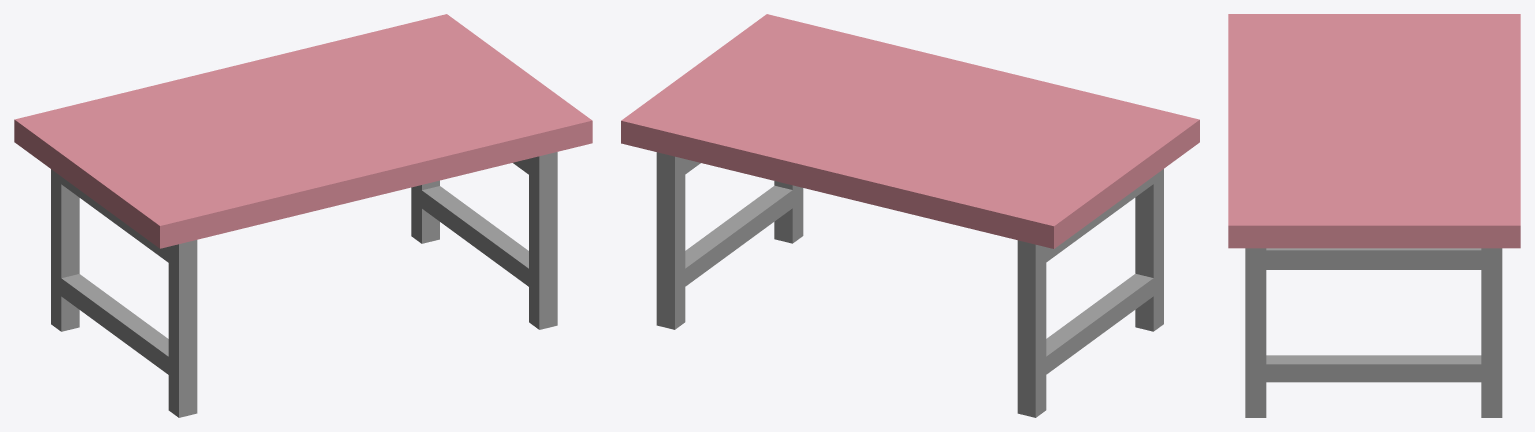
File: SM_Crafting.fbx
3 renders of one model, left to right at view 1: azimuth 30°, elevation 25°; view 2: azimuth 150°, elevation 25°; view 3: azimuth 270°, elevation 25°, orthographic.
Visible parts, largest first — view 1: Crafting; view 2: Crafting; view 3: Crafting.
Part boxes in pixels (bbox=[...]): Crafting: bbox=[14, 14, 592, 417]; Crafting: bbox=[621, 14, 1199, 417]; Crafting: bbox=[1228, 14, 1520, 417].
Bounding box in the file's own units: 166 × 74.89 × 96.54.
